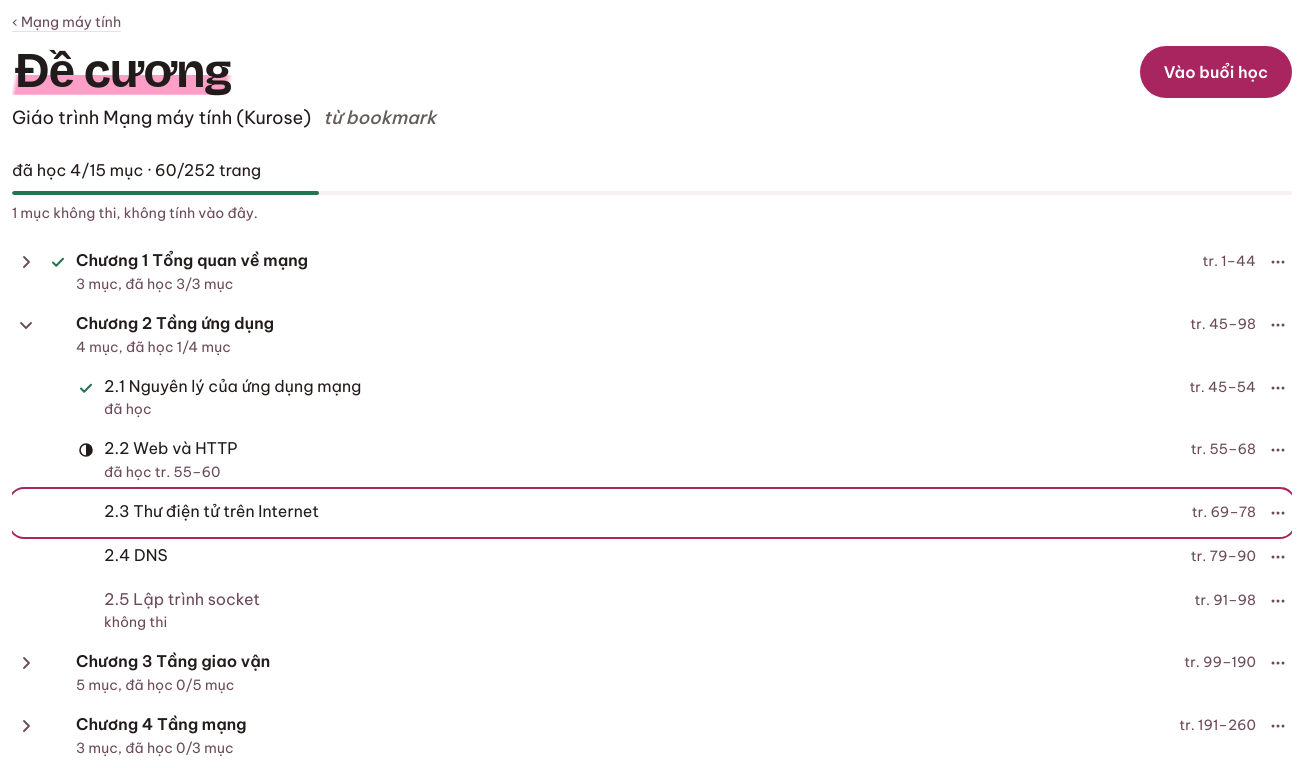
Test: panel actions (US-13 AC4, AC5, AC6) › marking a leaf updates totals, flips the label, keeps focus on the button and says so in the status
Press Enter in the list item "2.3 Thư điện tử trên Internet tr. 69–78", box top-left (12, 491), bottom-right (1292, 535)
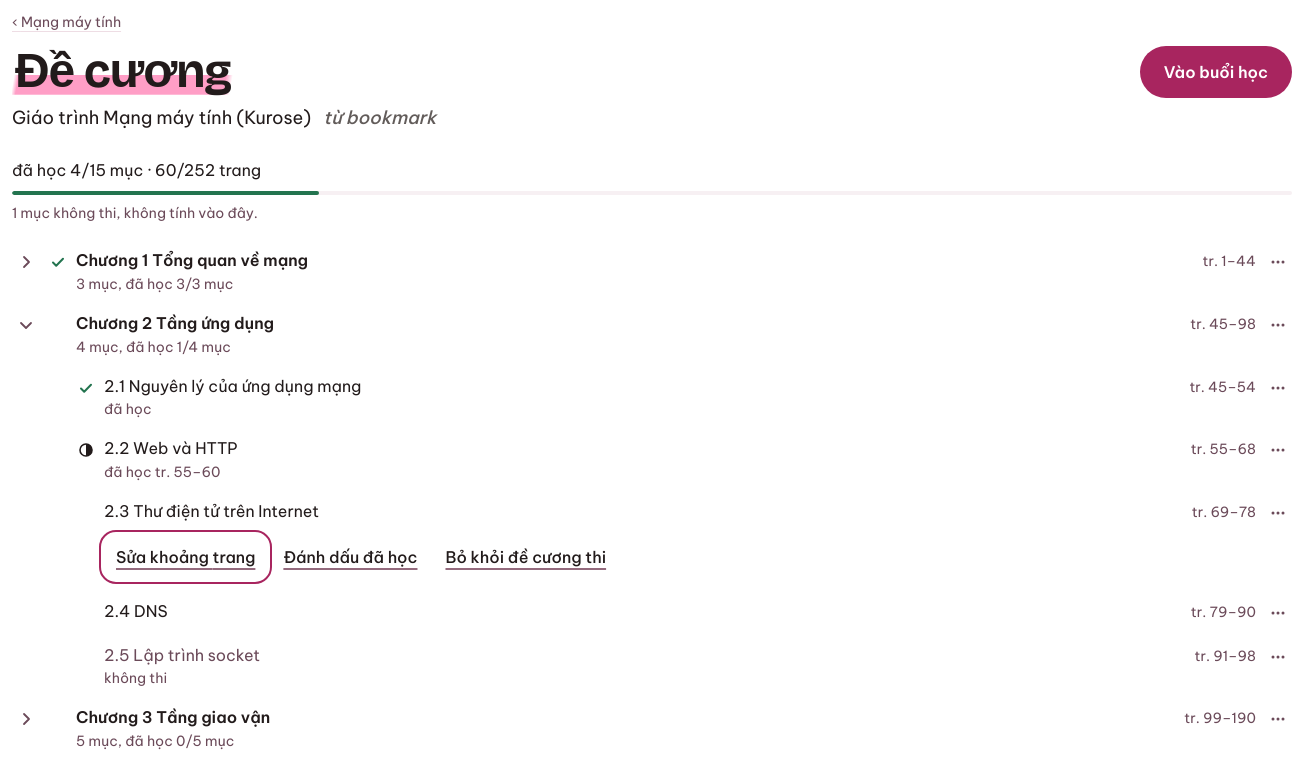
Click the button "Đánh dấu đã học" at x=350, y=557, box top-left (271, 535), bottom-right (430, 579)
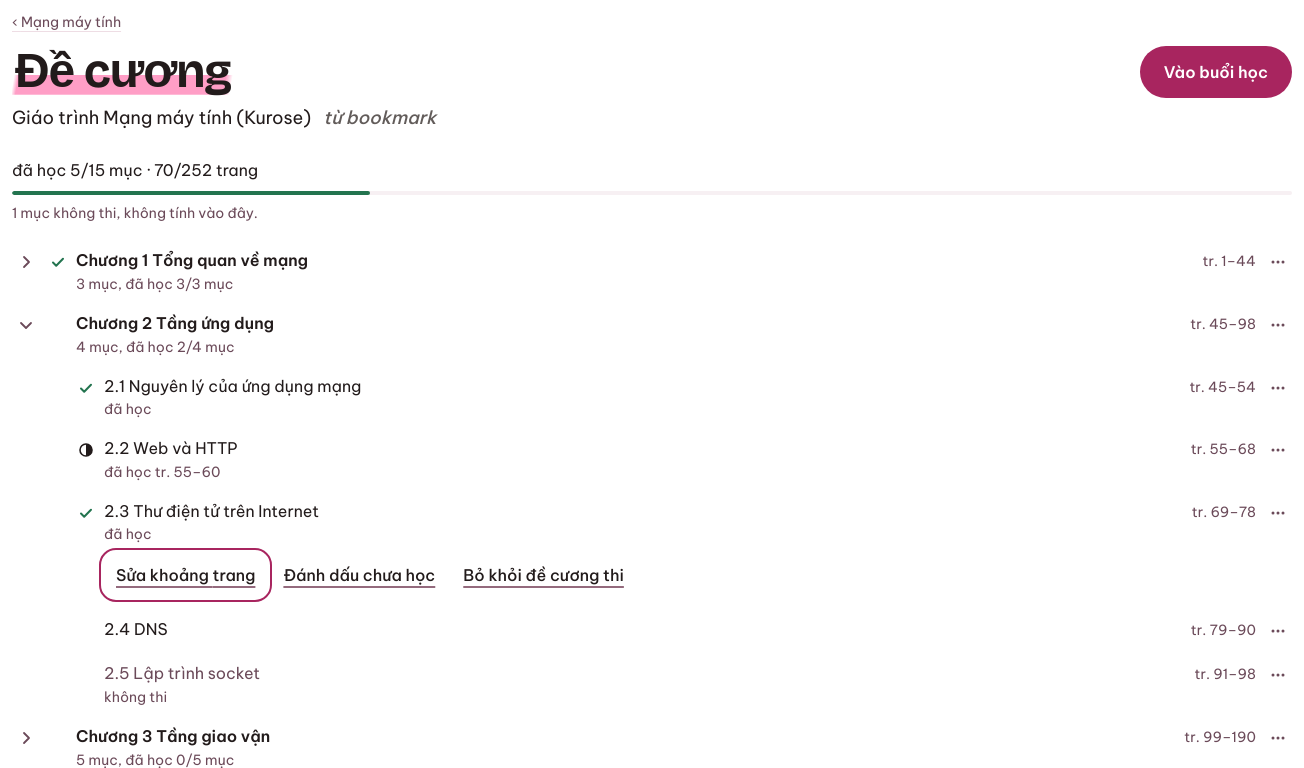
Now the text "đã học 5/15 mục · 70/252 trang" is shown, box top-left (12, 160), bottom-right (258, 180)
Now the button "Đánh dấu chưa học" is shown, box top-left (271, 553), bottom-right (447, 597)
